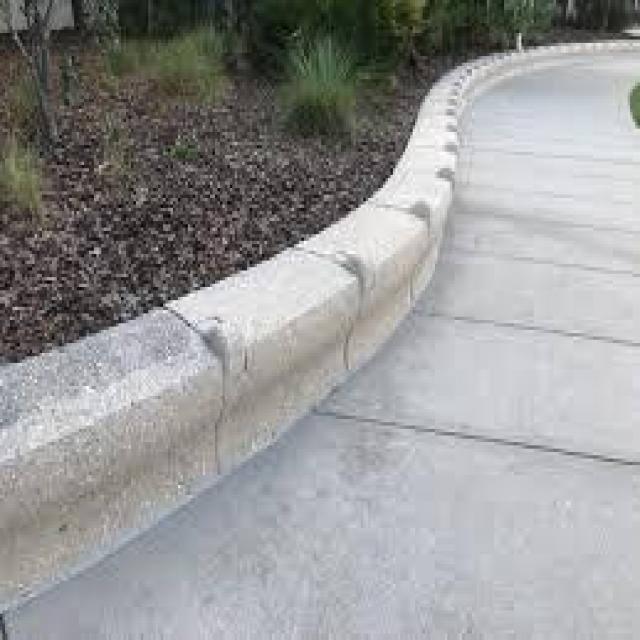curb: (1, 83, 483, 615), (447, 41, 636, 98)
